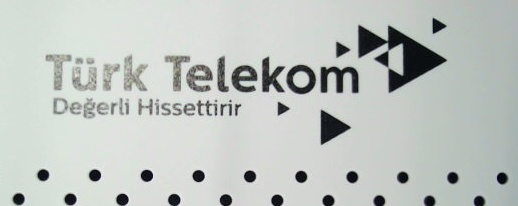AQ_TURKTelekom: (40, 12, 450, 150)
